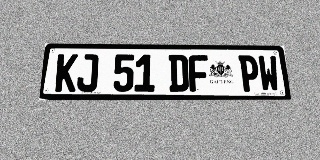1: (134, 54, 155, 92)
5: (113, 54, 134, 92)
D: (169, 55, 189, 92)
F: (188, 55, 209, 92)
J: (76, 54, 99, 92)
K: (55, 54, 78, 92)
P: (238, 55, 260, 92)
W: (257, 55, 280, 92)
